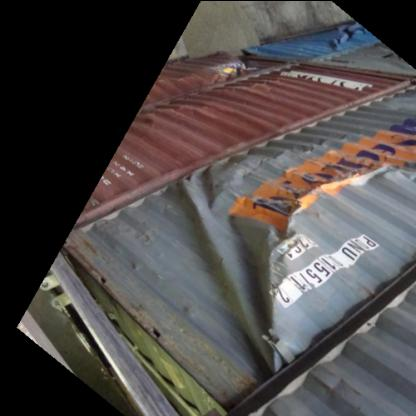Damage: (192, 176, 294, 374), (286, 142, 408, 230)
